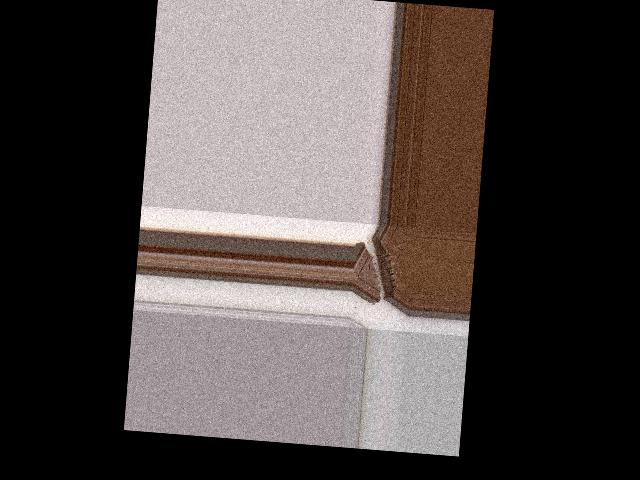chocolate: (349, 223, 414, 316)
